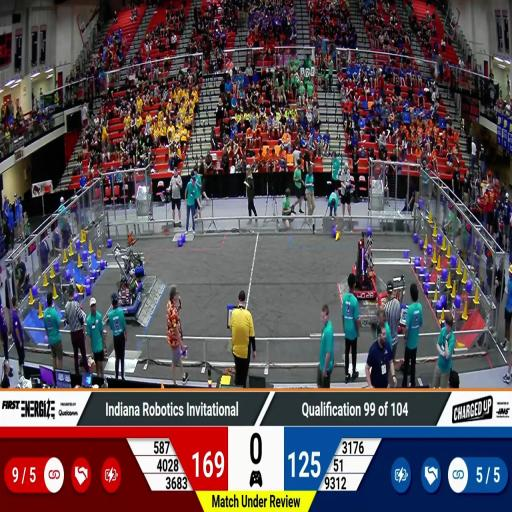robot: (348, 237, 379, 300), (112, 242, 147, 296), (378, 274, 407, 335), (110, 278, 141, 318), (352, 240, 379, 276), (122, 246, 148, 277)
